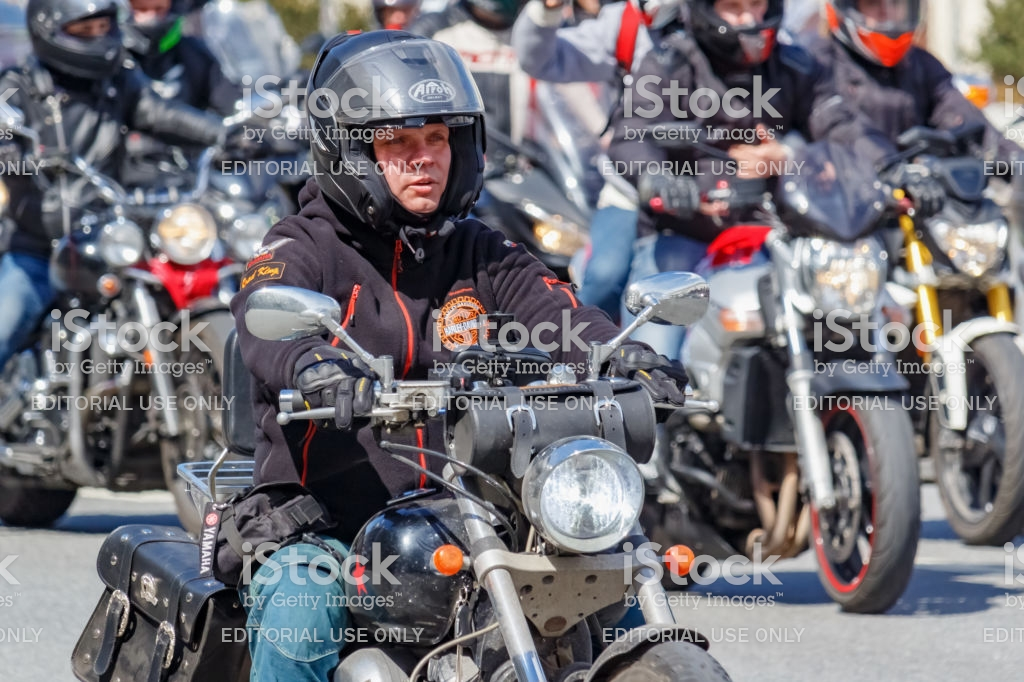helmet: (293, 47, 502, 203)
